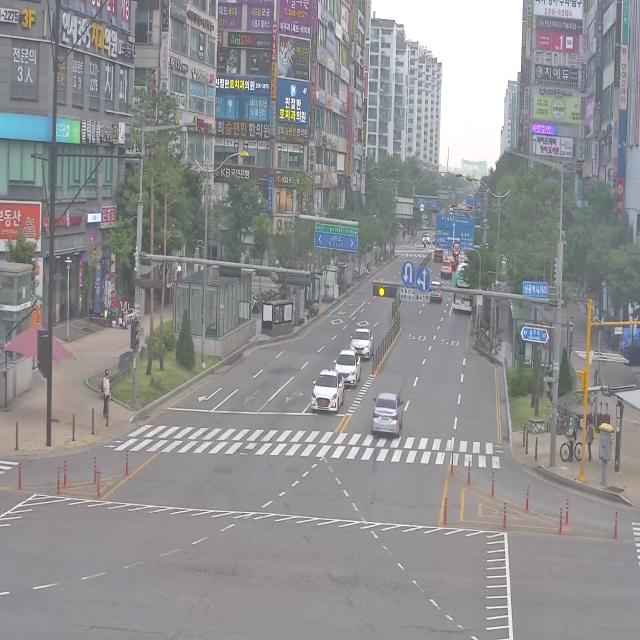Bus: (450, 258, 475, 323)
Car: (311, 368, 344, 412), (371, 392, 403, 436), (333, 348, 361, 387), (349, 327, 374, 359), (429, 279, 442, 303)
